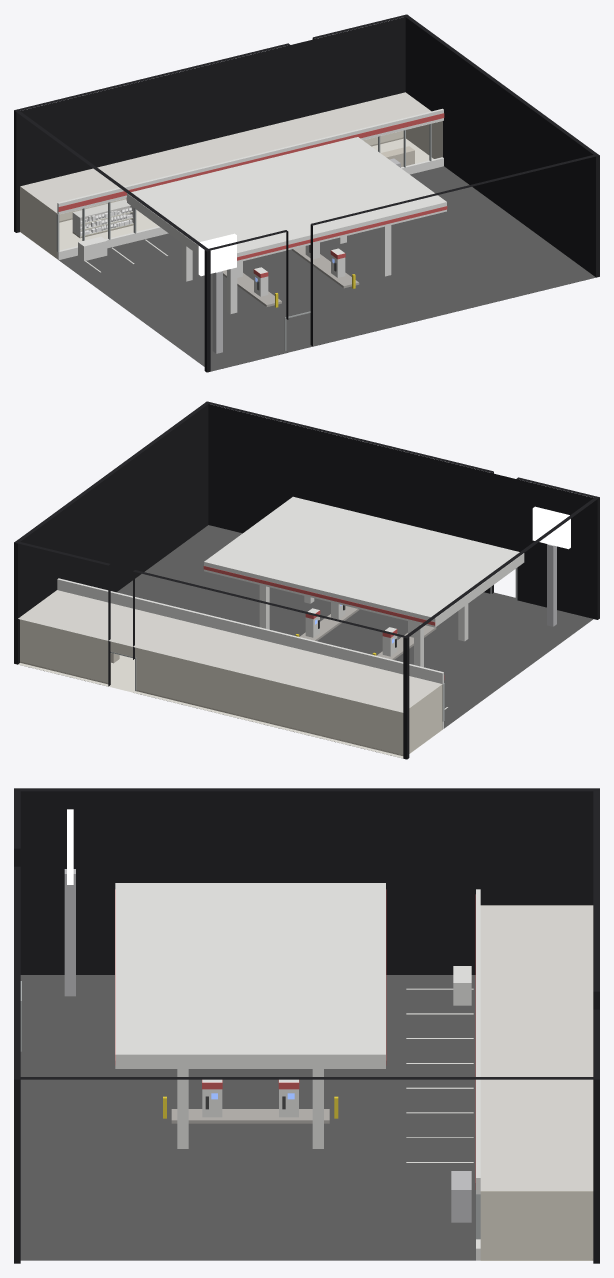
The model's file is gas.glb.
3 views of the same model, one above another, from view 1: azimuth 30°, elevation 25°; view 2: azimuth 150°, elevation 25°; view 3: azimuth 270°, elevation 25° (orthographic). The views are drawn at different scales.
Visible parts, largest first — view 1: gas, gas_lit; view 2: gas, gas_lit; view 3: gas, gas_lit.
Boxes of the visible parts, box(x1,y1,x2,y2) form: gas: box(14, 14, 599, 372); gas_lit: box(198, 233, 334, 282); gas: box(14, 401, 599, 759); gas_lit: box(315, 506, 570, 643); gas: box(14, 788, 599, 1263); gas_lit: box(67, 809, 294, 1099).
Bounding box in the file's own units: 30.6 × 9.01 × 26.
